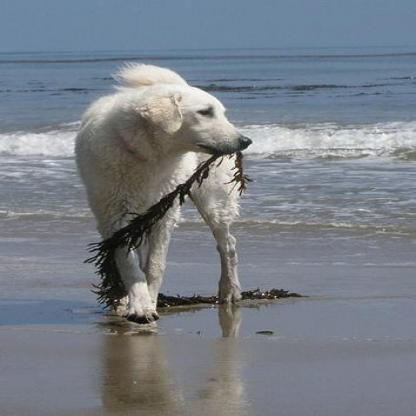kuvasz: (72, 59, 249, 322)
